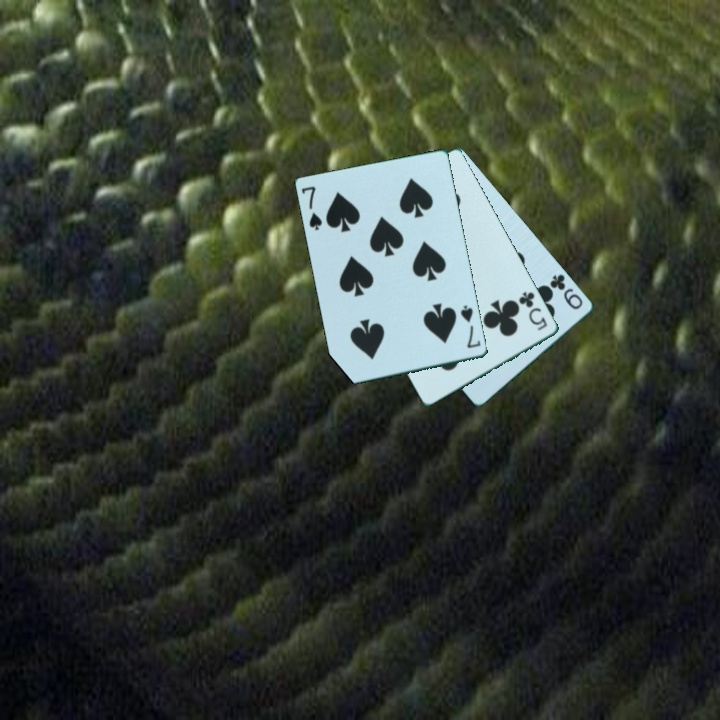5c: (515, 288, 551, 334)
7s: (298, 183, 325, 233), (457, 302, 484, 351)
9c: (546, 270, 586, 313)
